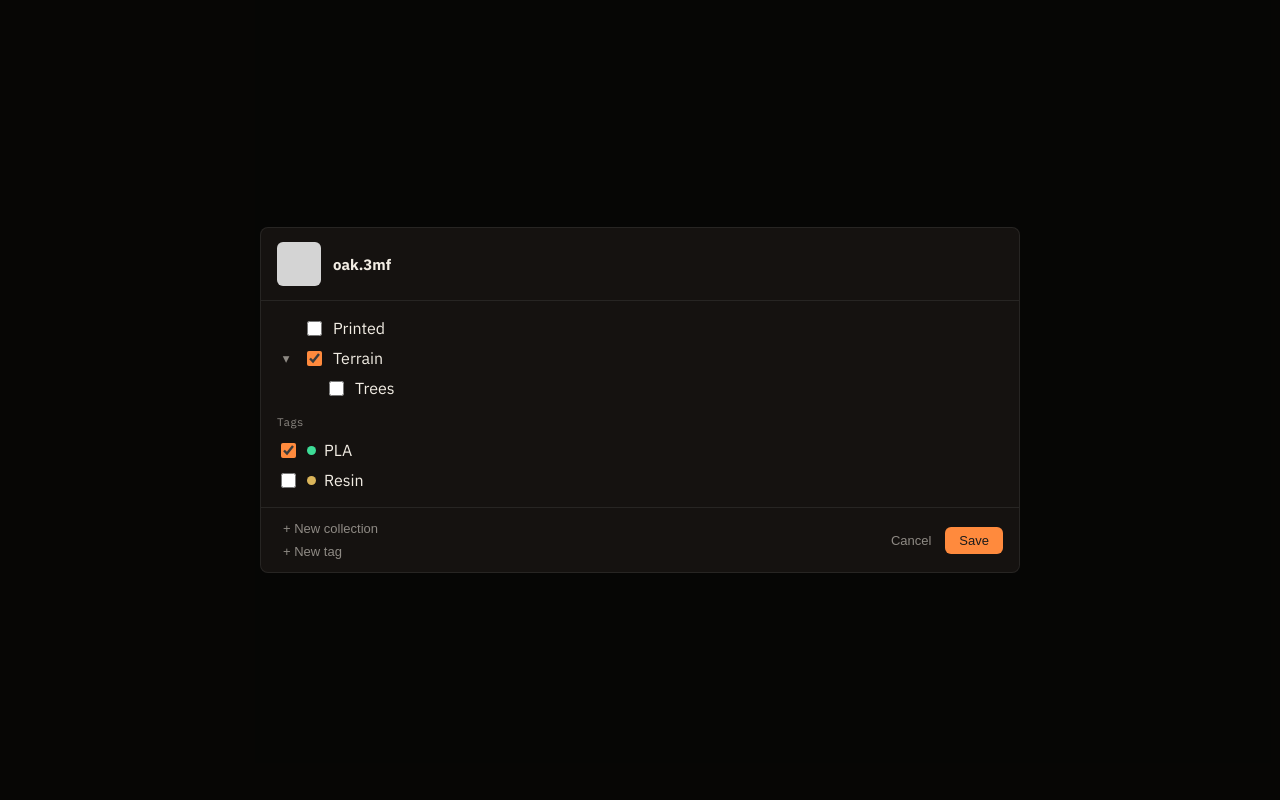
Test: AssignFoldersModal › shows an alert and stays open when save fails
What coordinates should you click on to do the following:
click the checkbox labelled "Printed"
I would click on:
 (314, 328)
Its box is [307, 320, 322, 336].
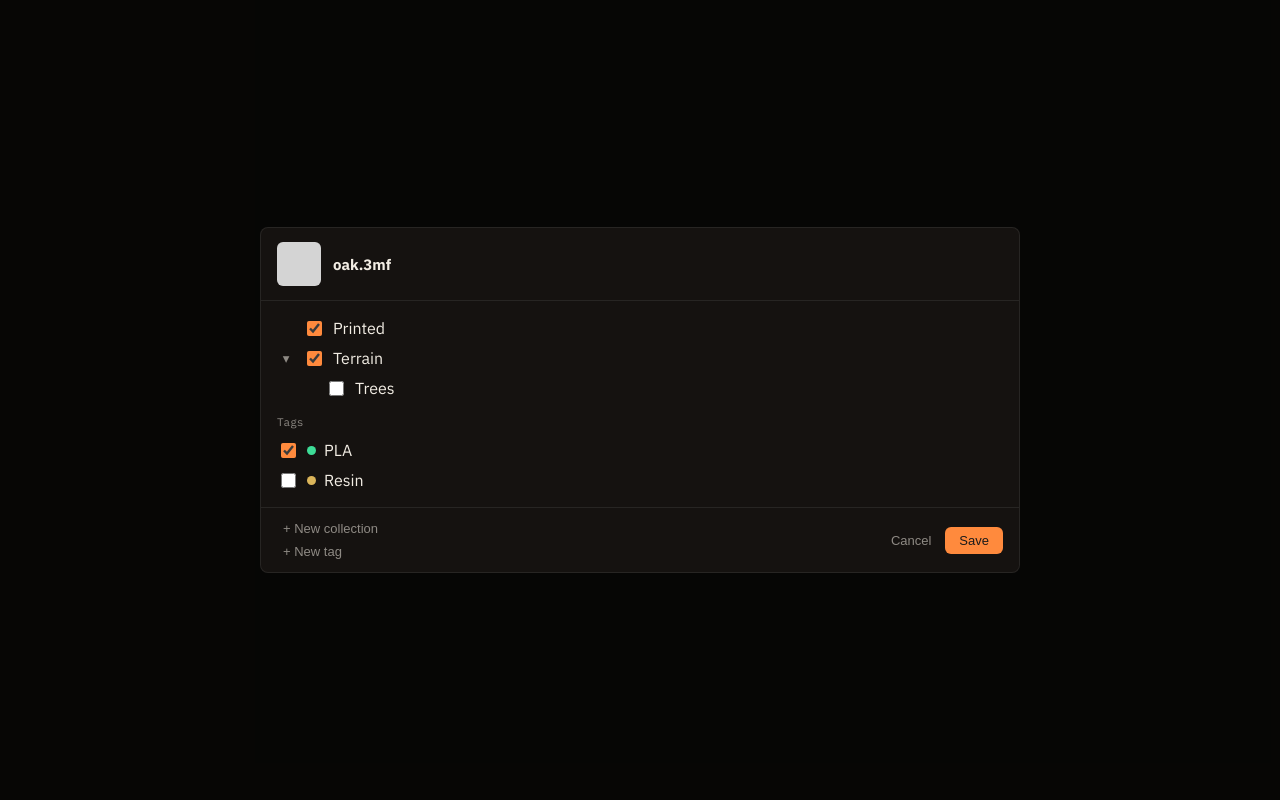
What coordinates should you click on to do the following:
click the button "Save"
I would click on:
 (974, 540)
Its box is [945, 526, 1003, 554].
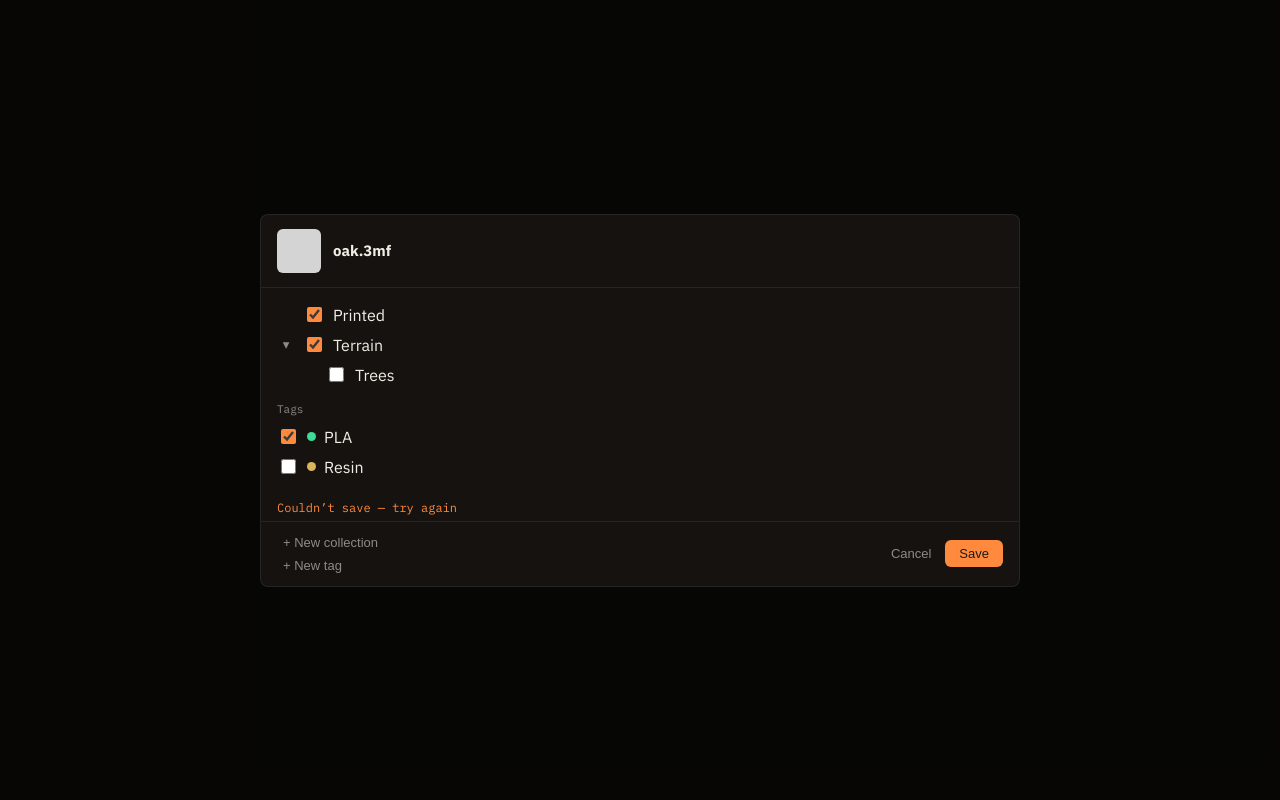
Check: the message "Couldn’t save — try again" is shown, box [277, 500, 457, 514]
